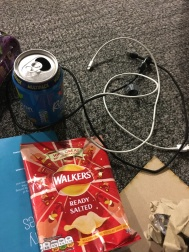can_blue: (8, 45, 74, 128)
